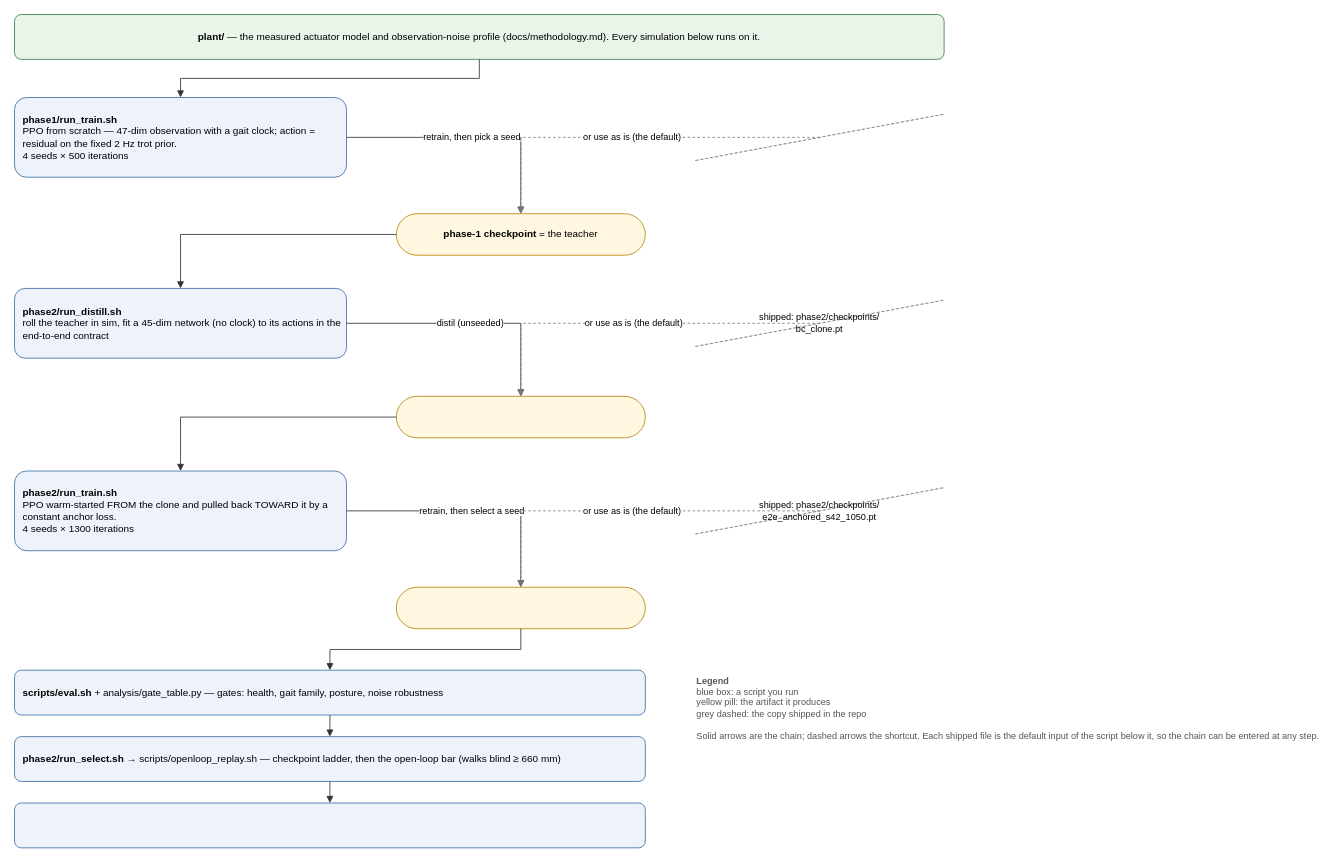
This 1334x862 diagram has some shape labels left out. Here are the shapes that lost their labels. From the top down, the box of each, then its label:
(694, 113, 944, 161): shipped: phase1/checkpoints/ cpg_residual_s3_499.pt
(395, 395, 645, 438): clone — same gait, new contract, weak on its own
(395, 586, 645, 629): phase-2 checkpoint
(14, 802, 645, 848): export_policy → deploy/ — ONNX + numpy contract, checked against fixtures
